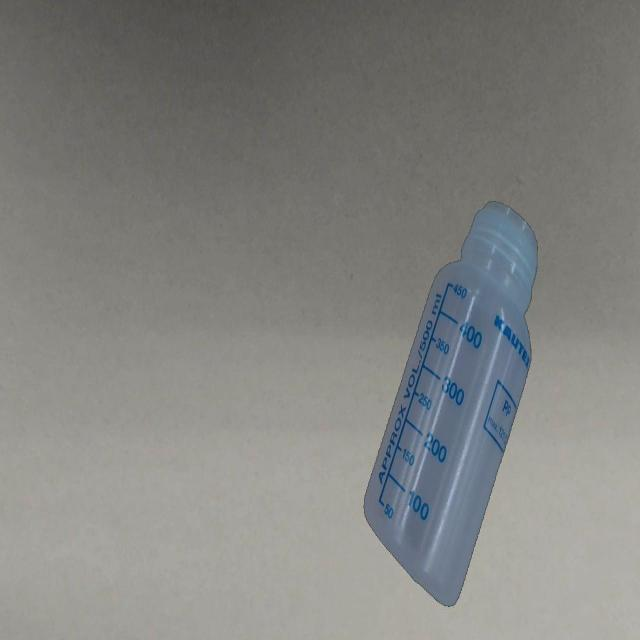bottle: (361, 195, 538, 610)
